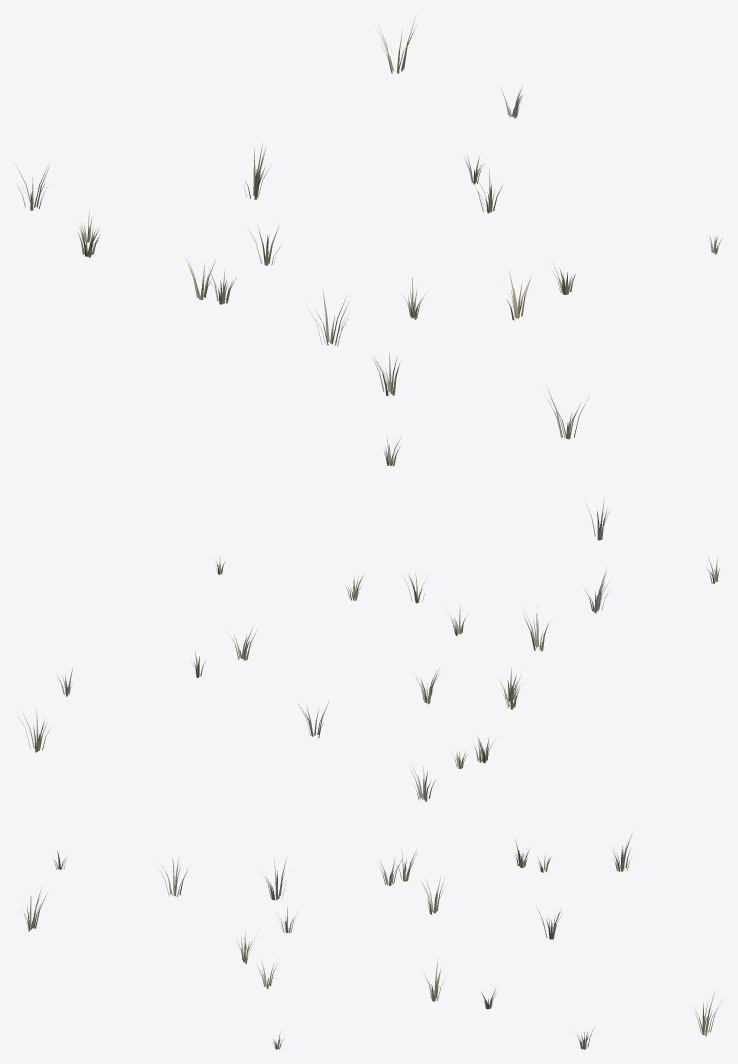
The model's file is AE_Grass_-2_-1.fbx.
3 renders of one model, top to bottom at view 1: azimuth 30°, elevation 25°; view 2: azimuth 150°, elevation 25°; view 3: azimuth 270°, elevation 25°, orthographic. The views are drawn at different scales.
Parts seen in each view (by area): view 1: AE_Grass_-2_-1_LOD0; view 2: AE_Grass_-2_-1_LOD0; view 3: AE_Grass_-2_-1_LOD0.
Boxes of the visible parts, x1,y1,x2,y2 form: AE_Grass_-2_-1_LOD0: (14, 18, 721, 466); AE_Grass_-2_-1_LOD0: (16, 496, 719, 801); AE_Grass_-2_-1_LOD0: (23, 833, 718, 1049).
Size of what is drawn, in the model's own units: 945 by 101 by 1490.
